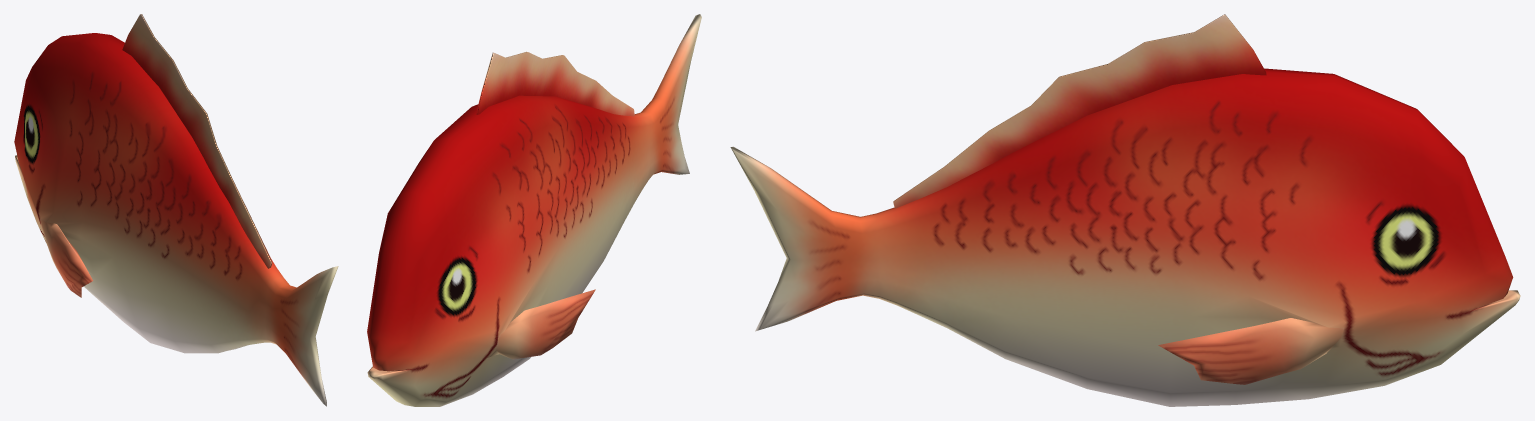
The model's file is sakana_mod.fbx.
3 views of the same model, side by side, from view 1: azimuth 30°, elevation 25°; view 2: azimuth 150°, elevation 25°; view 3: azimuth 270°, elevation 25° (orthographic). The views are drawn at different scales.
Parts seen in each view (by area): view 1: sakana; view 2: sakana; view 3: sakana.
Boxes of the visible parts, <box> form: sakana: <box>14,14,338,406</box>; sakana: <box>367,14,701,406</box>; sakana: <box>730,14,1520,406</box>.
Bounding box in the file's own units: 20.08 × 41.58 × 76.49.
